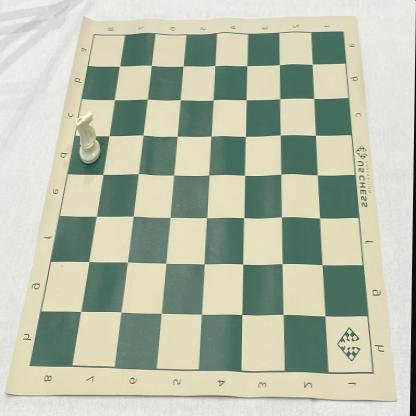white-knight: (75, 111, 102, 165)
